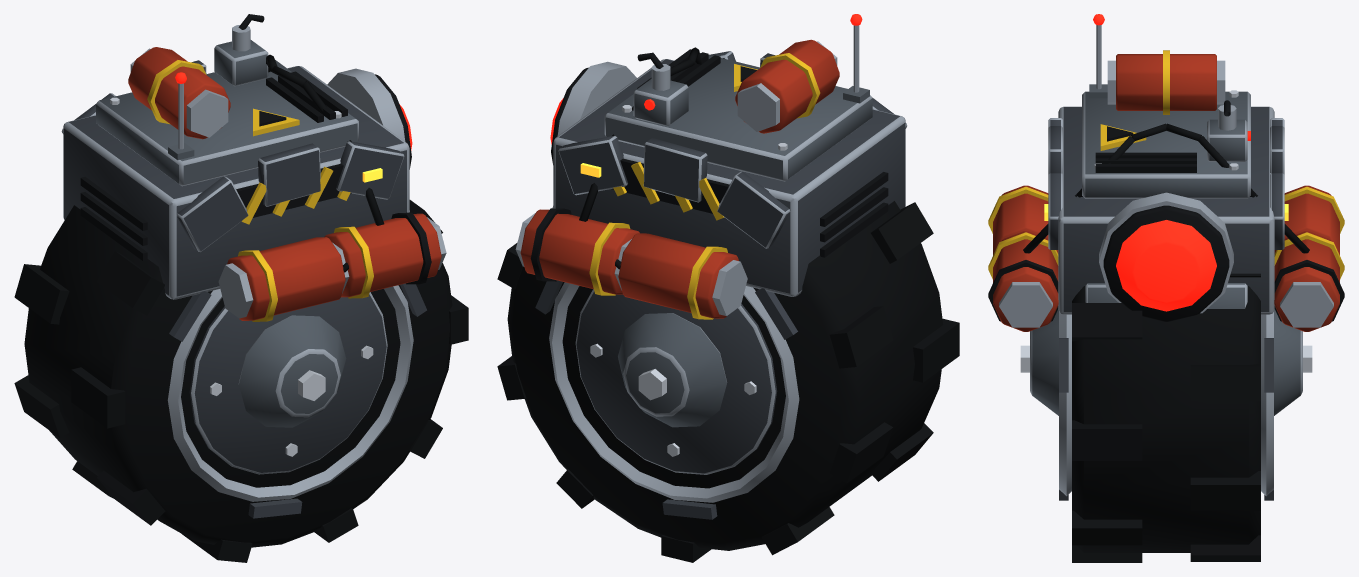
The model's file is enemigo_rodante_explosivo.glb.
3 renders of one model, left to right at view 1: azimuth 30°, elevation 25°; view 2: azimuth 150°, elevation 25°; view 3: azimuth 270°, elevation 25°, orthographic. The views are drawn at different scales.
Visible parts, largest first — view 1: mov_rueda, chasis, techo, carga_1, carga_2, carga_techo, guardabarros_3, guardabarros_2, mov_luz, guardabarros_1, detonador, tapa_carga_techo_1 (+12 smaller); view 2: mov_rueda, chasis, techo, carga_3, carga_4, carga_techo, guardabarros_6, guardabarros_5, mov_luz, guardabarros_4, detonador, tapa_carga_techo_2 (+10 smaller); view 3: mov_rueda, mov_luz, chasis, techo, carga_techo, carga_2, carga_4, carga_1, carga_3, tapa_carga_4, tapa_carga_8, cable_cargas (+16 smaller).
Part boxes in pixels (x1,y1,x2,y2): mov_rueda: (14,200,468,562); chasis: (63,66,409,299); techo: (96,60,358,186); carga_1: (227,237,345,320); carga_2: (324,213,441,297); carga_techo: (128,47,230,139); guardabarros_3: (177,176,248,251); guardabarros_2: (258,143,320,206); mov_luz: (327,68,412,169); guardabarros_1: (336,141,404,199); detonador: (214,40,268,86); tapa_carga_techo_1: (186,89,228,137); mov_rueda: (497,201,959,562); chasis: (553,59,905,296); techo: (604,53,872,181); carga_3: (618,233,738,318); carga_4: (520,209,639,294); carga_techo: (735,39,839,133); guardabarros_6: (717,171,790,248); guardabarros_5: (643,138,707,202); mov_luz: (550,61,636,164); guardabarros_4: (558,135,627,195); detonador: (633,79,688,126); tapa_carga_techo_2: (737,83,779,131); mov_rueda: (1020,273,1312,562); mov_luz: (1099,192,1233,321); chasis: (1058,106,1274,314); techo: (1082,91,1250,198); carga_techo: (1116,54,1216,110); carga_2: (993,231,1058,331); carga_4: (1274,231,1339,331); carga_1: (993,185,1058,255); carga_3: (1274,185,1339,255); tapa_carga_4: (999,282,1052,327); tapa_carga_8: (1280,282,1333,327); cable_cargas: (1023,123,1309,253).
Size of the model in its own units: 0.602 by 0.792 by 0.528.
